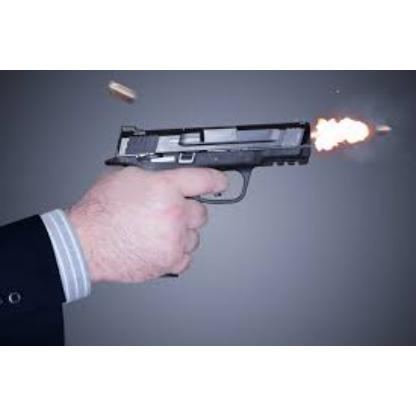gun: (110, 119, 310, 279)
